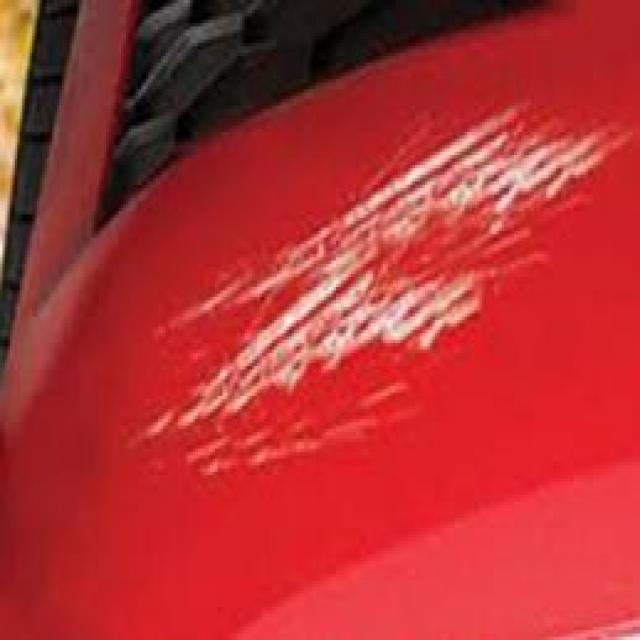scratch: (121, 74, 630, 503)
